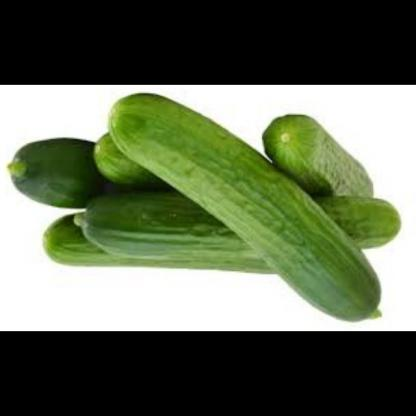cucumber: (102, 104, 392, 316), (64, 192, 406, 266), (0, 225, 308, 295), (246, 110, 389, 209), (1, 125, 132, 221)
